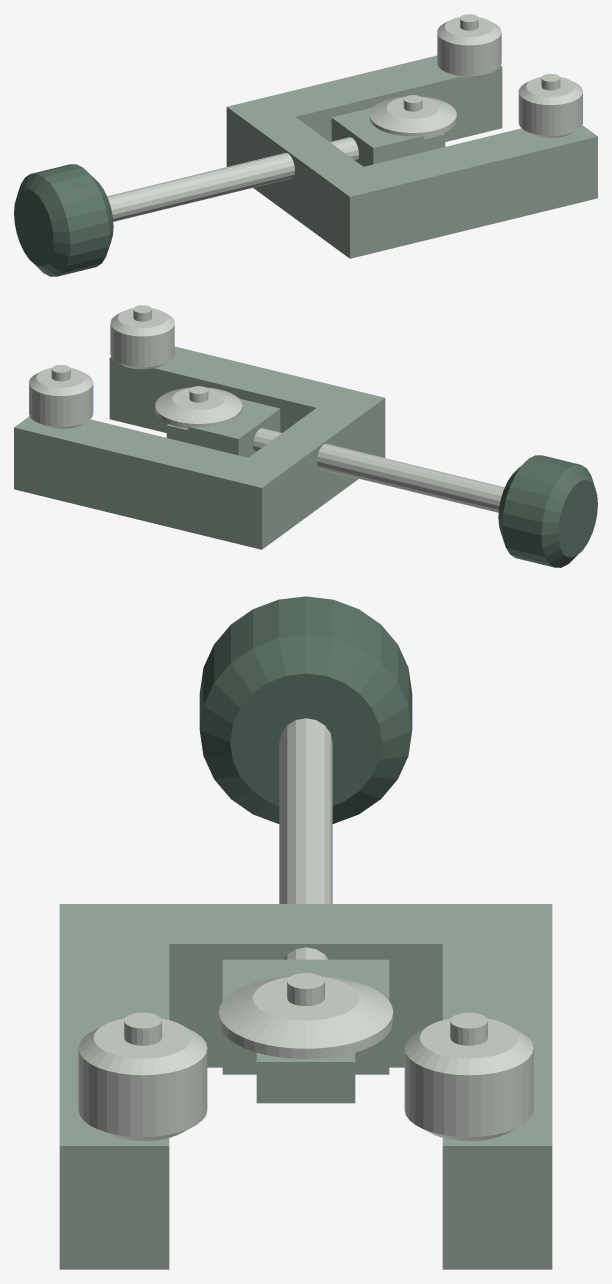
3 views of the same model, one above another, from view 1: azimuth 30°, elevation 25°; view 2: azimuth 150°, elevation 25°; view 3: azimuth 270°, elevation 25° (orthographic). The views are drawn at different scales.
Parts seen in each view (by area): view 1: WholeContinuousOpenCFrame, WholeSteppedRearHandKnob, WholeRearSpindle, WholeSupportRoller_0.043, WholeSupportRoller_-0.043, WholeCapturedWheelSlider, WholeThinBevelledOpposedWheel; view 2: WholeContinuousOpenCFrame, WholeSteppedRearHandKnob, WholeRearSpindle, WholeSupportRoller_-0.043, WholeSupportRoller_0.043, WholeCapturedWheelSlider, WholeThinBevelledOpposedWheel; view 3: WholeContinuousOpenCFrame, WholeSteppedRearHandKnob, WholeSupportRoller_-0.043, WholeSupportRoller_0.043, WholeThinBevelledOpposedWheel, WholeCapturedWheelSlider, WholeRearSpindle, WholeSupportRollerAxle_-0.043, WholeSupportRollerAxle_0.043, WholeProudCutterAxle.
Boxes of the visible parts, x1,y1,x2,y2 form: WholeContinuousOpenCFrame: (226, 55, 597, 258); WholeSteppedRearHandKnob: (14, 164, 113, 276); WholeRearSpindle: (107, 137, 358, 221); WholeSupportRoller_0.043: (437, 17, 501, 78); WholeSupportRoller_-0.043: (518, 77, 582, 137); WholeCapturedWheelSlider: (331, 107, 445, 166); WholeThinBevelledOpposedWheel: (369, 96, 456, 137); WholeContinuousOpenCFrame: (14, 346, 385, 549); WholeSteppedRearHandKnob: (498, 455, 597, 567); WholeRearSpindle: (253, 428, 504, 512); WholeSupportRoller_-0.043: (110, 308, 174, 369); WholeSupportRoller_0.043: (29, 368, 93, 428); WholeCapturedWheelSlider: (166, 398, 280, 457); WholeThinBevelledOpposedWheel: (155, 387, 242, 428); WholeContinuousOpenCFrame: (59, 904, 552, 1269); WholeSteppedRearHandKnob: (199, 596, 412, 823); WholeSupportRoller_-0.043: (78, 1018, 207, 1140); WholeSupportRoller_0.043: (404, 1018, 533, 1140); WholeThinBevelledOpposedWheel: (218, 975, 393, 1058); WholeCapturedWheelSlider: (222, 959, 389, 1103); WholeRearSpindle: (279, 718, 332, 959); WholeSupportRollerAxle_-0.043: (124, 1012, 161, 1045); WholeSupportRollerAxle_0.043: (450, 1012, 487, 1045); WholeProudCutterAxle: (287, 973, 324, 1006).
Bounding box in the file's own units: 0.307 × 0.065 × 0.13.
